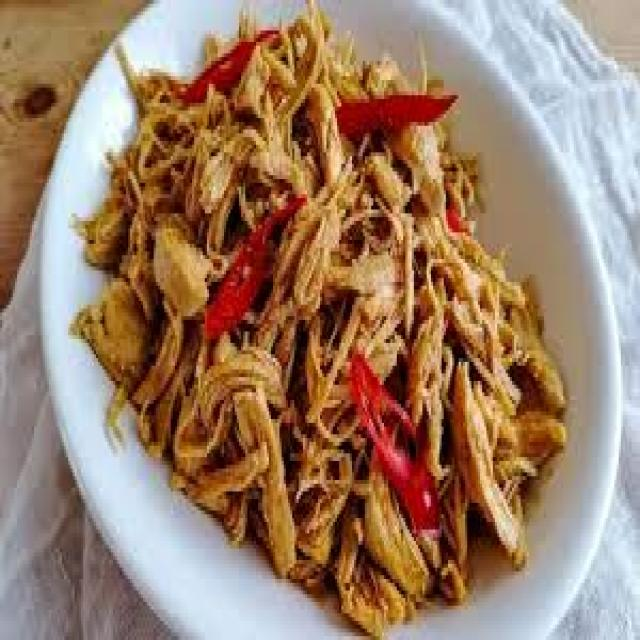ayam_suwir: (94, 13, 572, 620)
